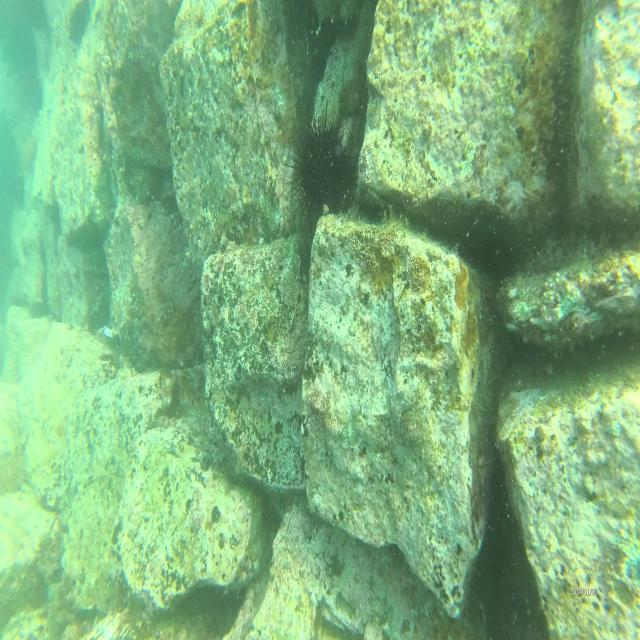echinus: (287, 112, 357, 221), (124, 160, 154, 210)
